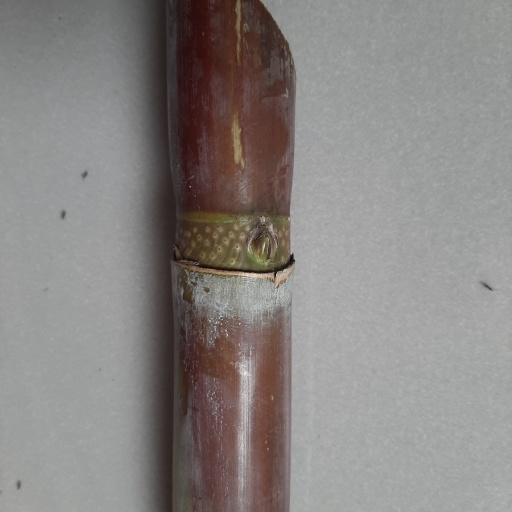Bud: (248, 222, 278, 264)
